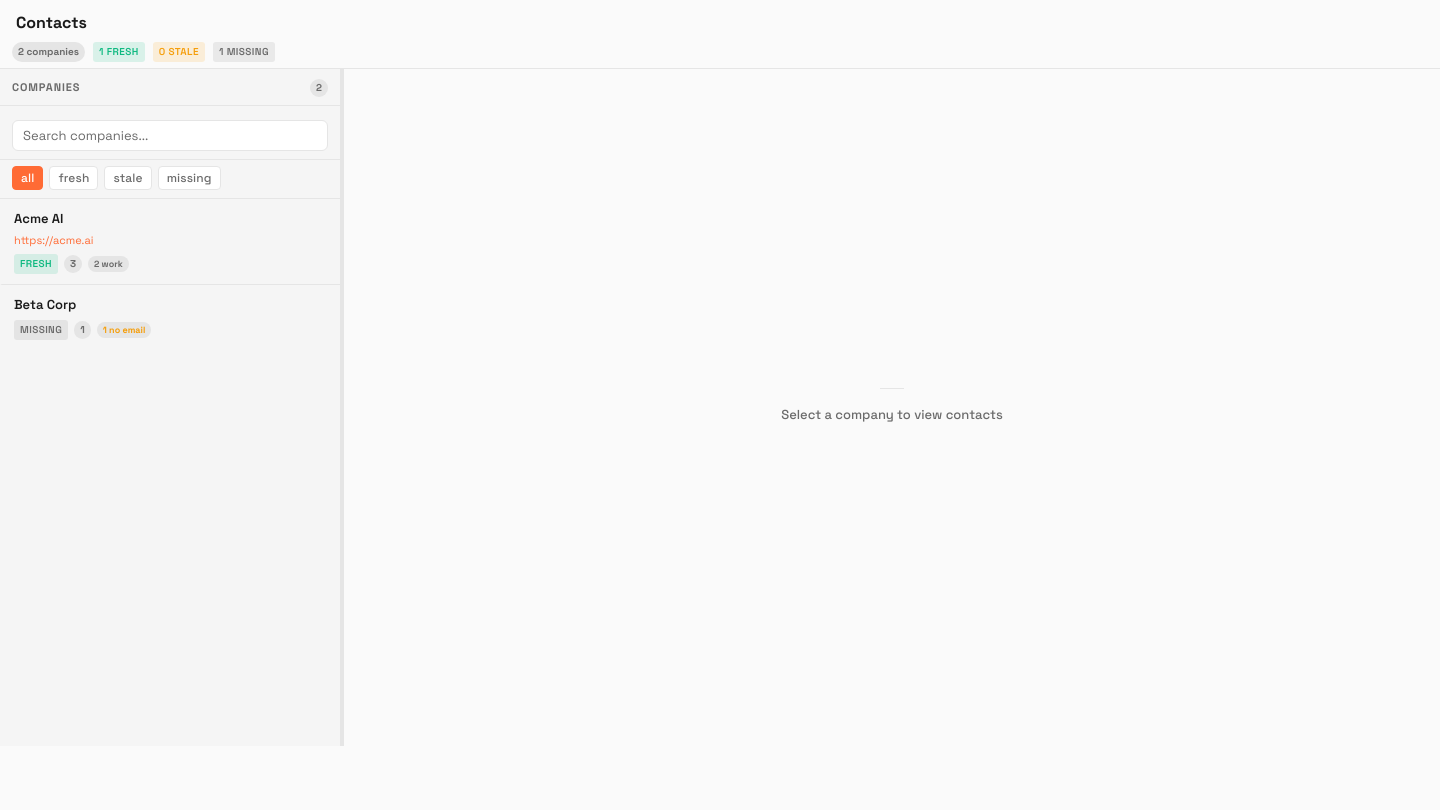
Scenario: ContactsWorkspacePage › shows contacts when company is selected
Click the text "Acme AI": click(39, 218) x1=14 y1=210 x2=63 y2=227
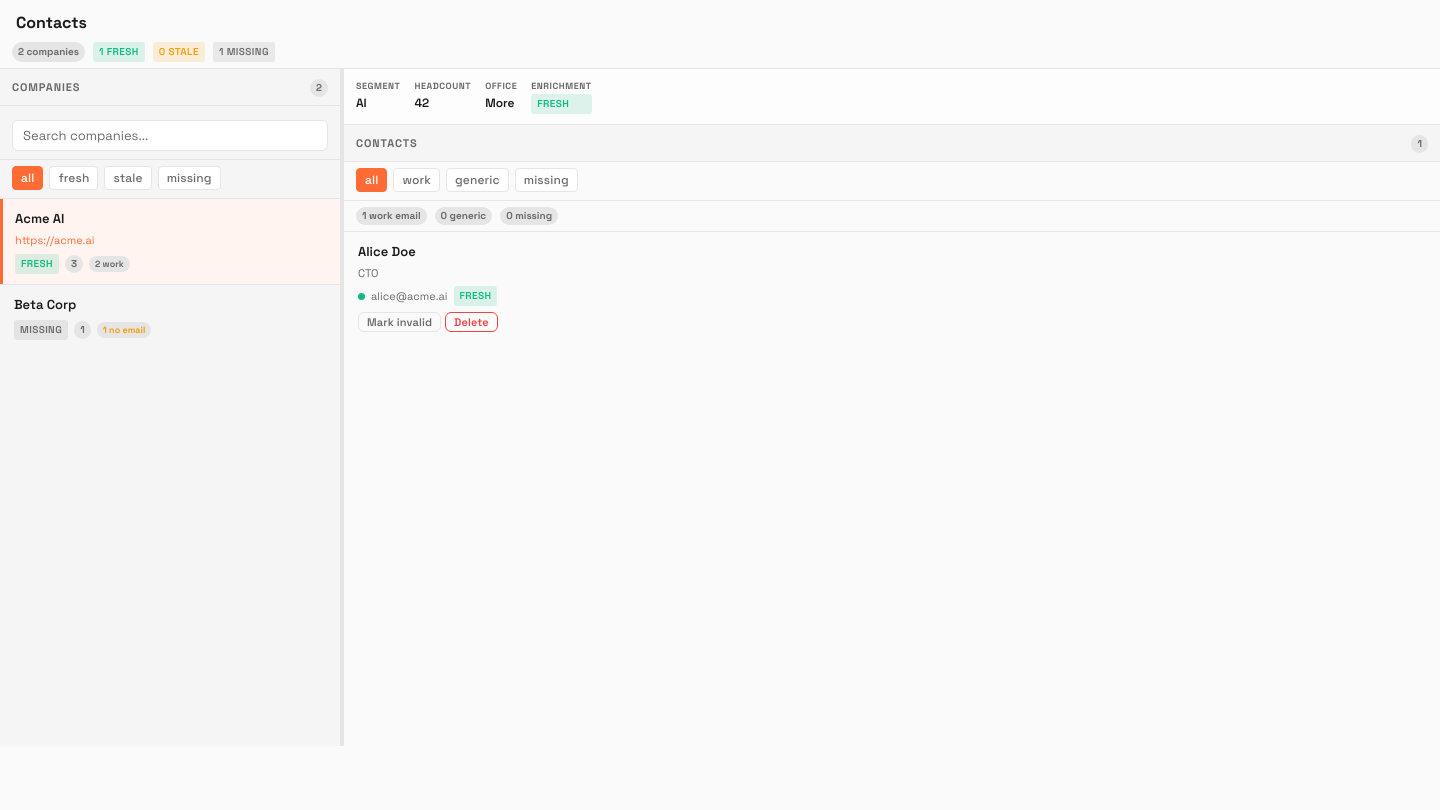
Expected: the text "Alice Doe" is shown, x1=358 y1=243 x2=416 y2=260
Expected: the text "CTO" is shown, x1=358 y1=266 x2=378 y2=280
Expected: the text "alice@acme.ai" is shown, x1=371 y1=288 x2=448 y2=305
